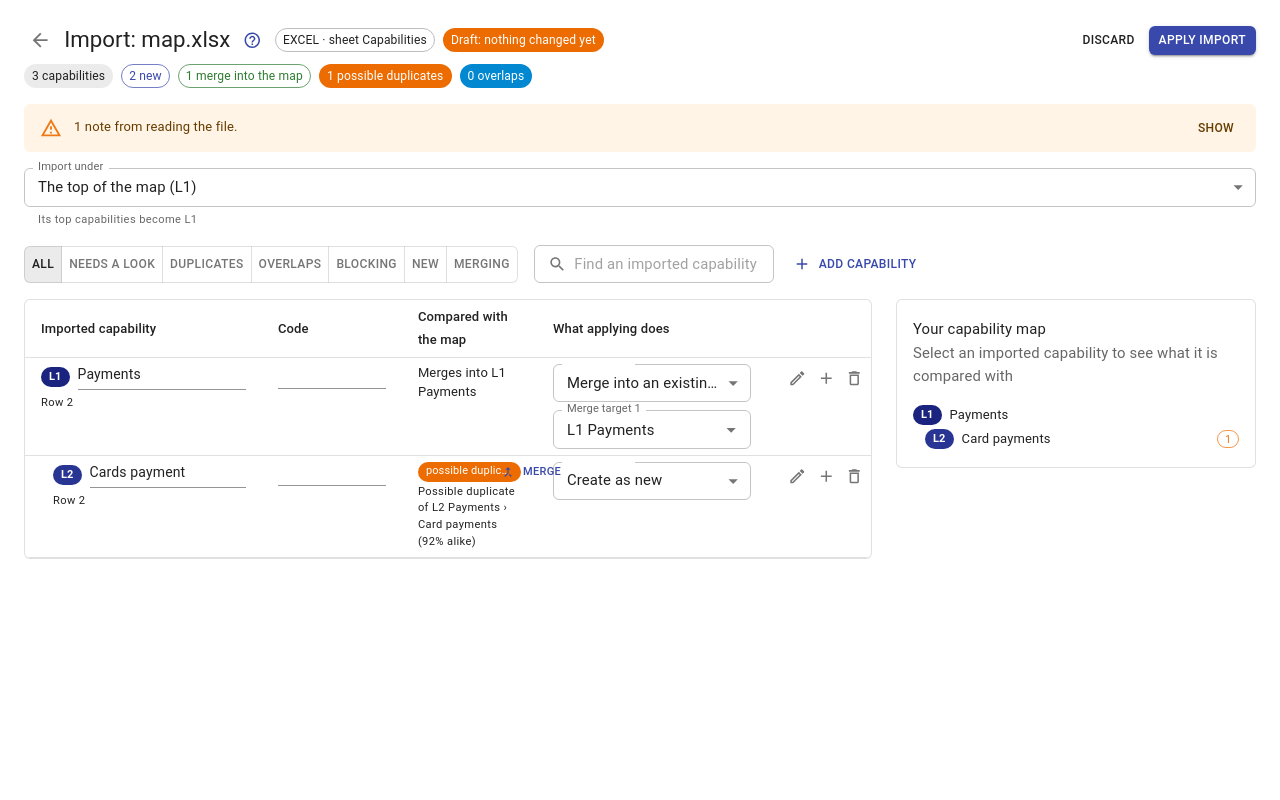
Test: Capability import › applies a draft without blocking problems and reports what it did
This screenshot has width=1280, height=800.
Click the button "Apply import": (1202,40) [1149,26,1256,55]
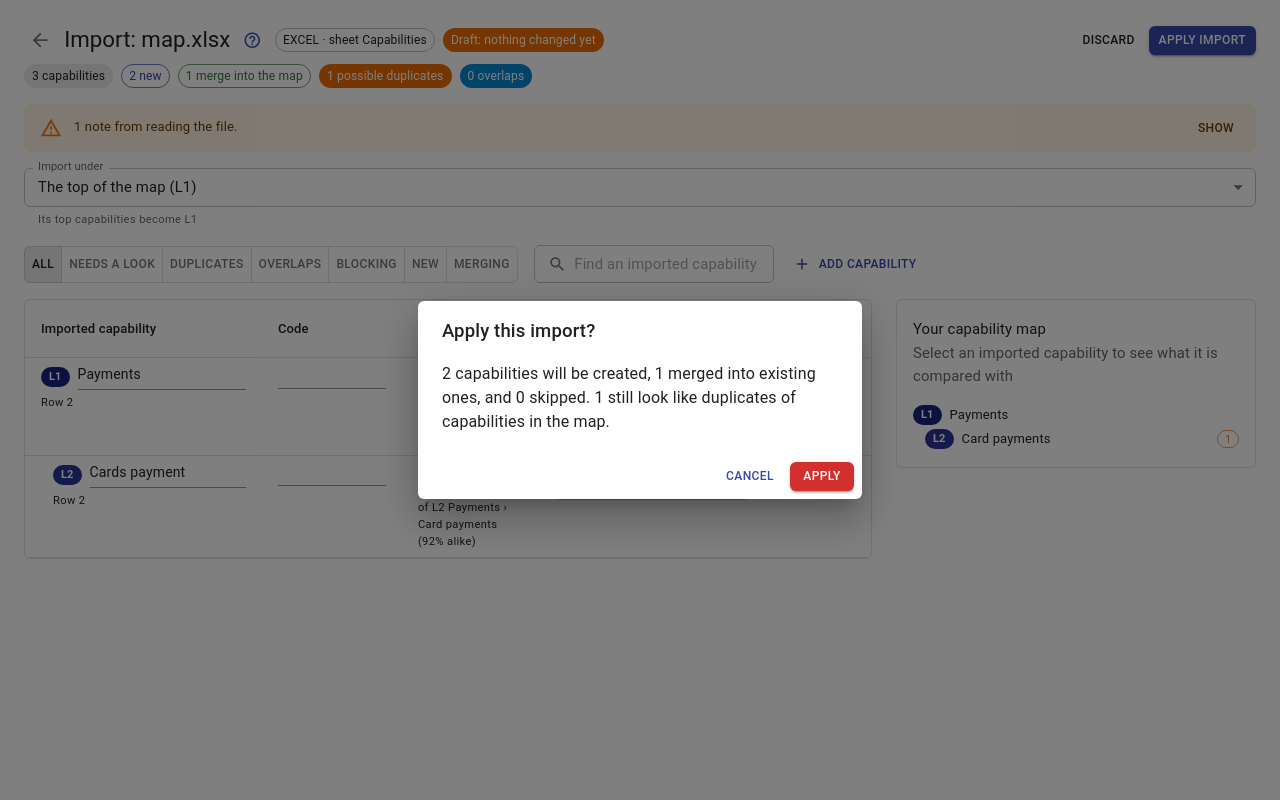
Click the button "Apply": (822,477) [790,462,854,491]
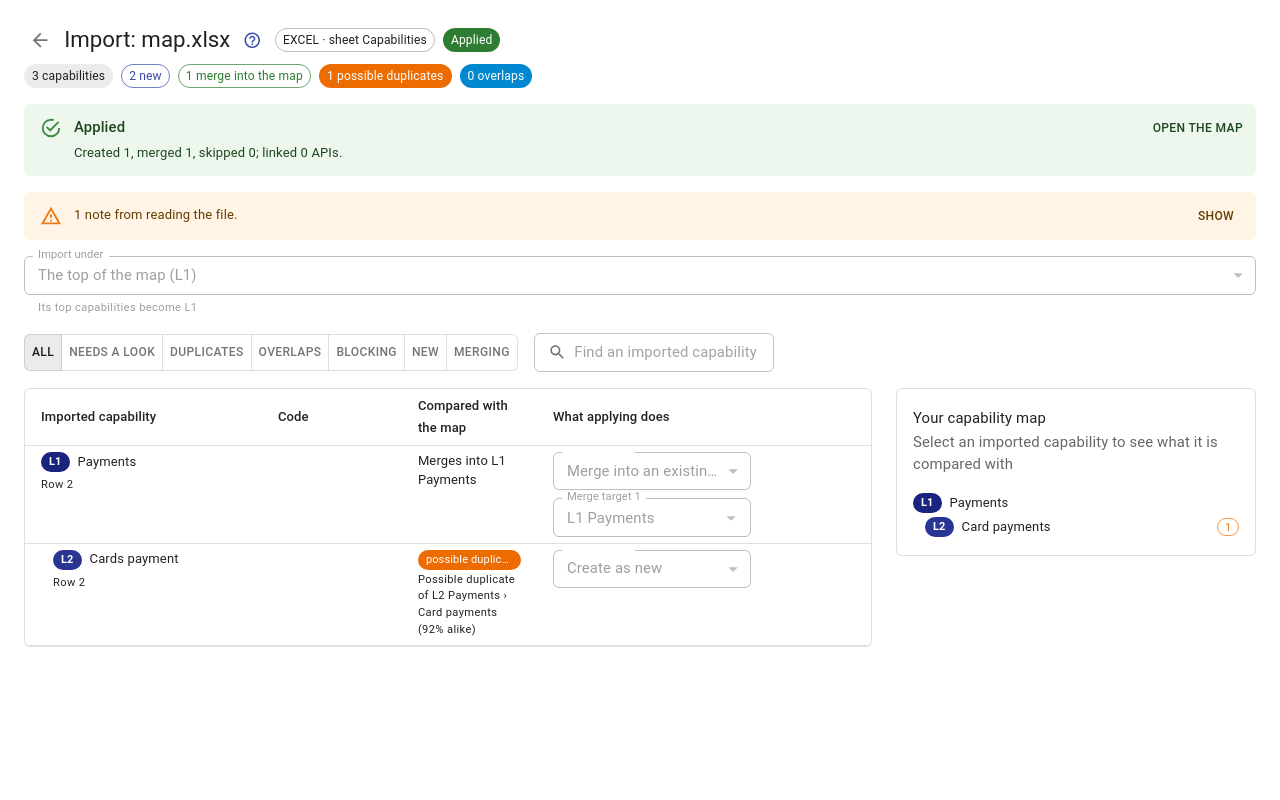
Check: the text "Applied Created 1, merged 1, skipped 0; linked 0 APIs." is shown, box [74,110,342,170]
